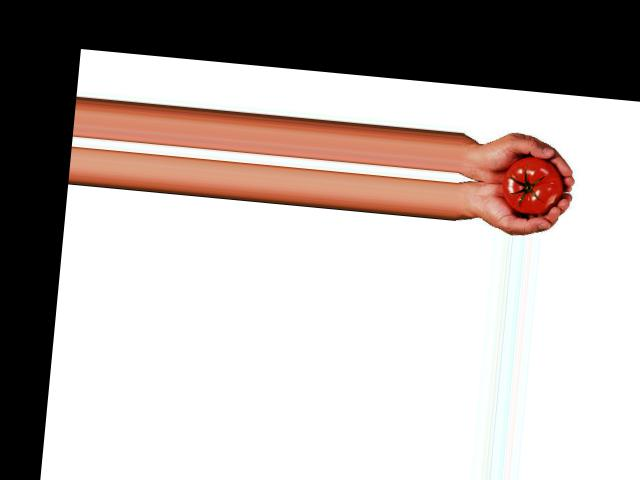tomato: (500, 153, 565, 216)
